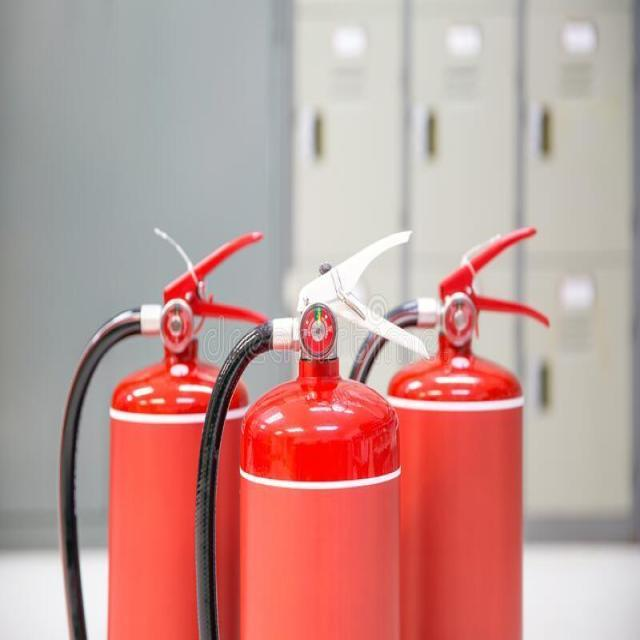fire_extinguisher: (190, 224, 436, 639), (51, 226, 282, 639), (338, 221, 553, 639)
